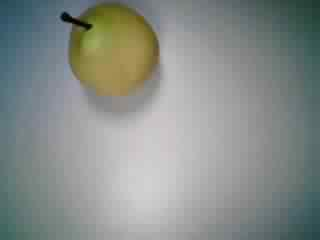pear: (54, 2, 165, 98)
